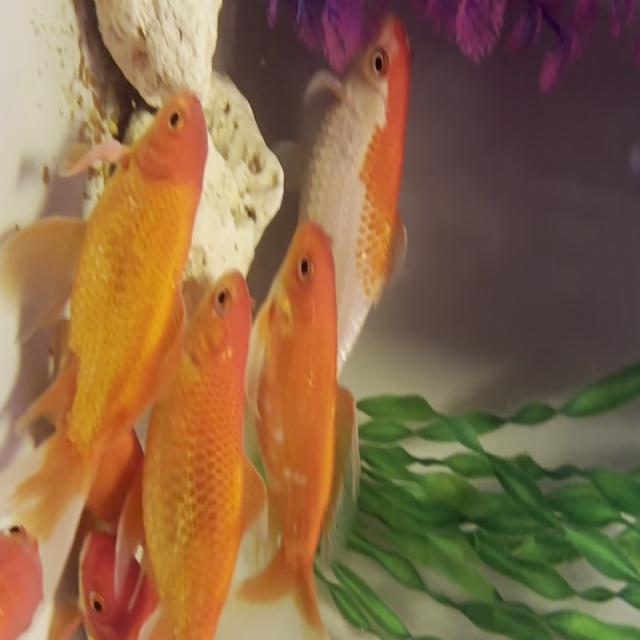fish: (0, 80, 205, 591), (35, 275, 260, 640), (255, 217, 362, 640), (298, 0, 418, 367), (64, 528, 264, 640), (304, 82, 362, 250)
